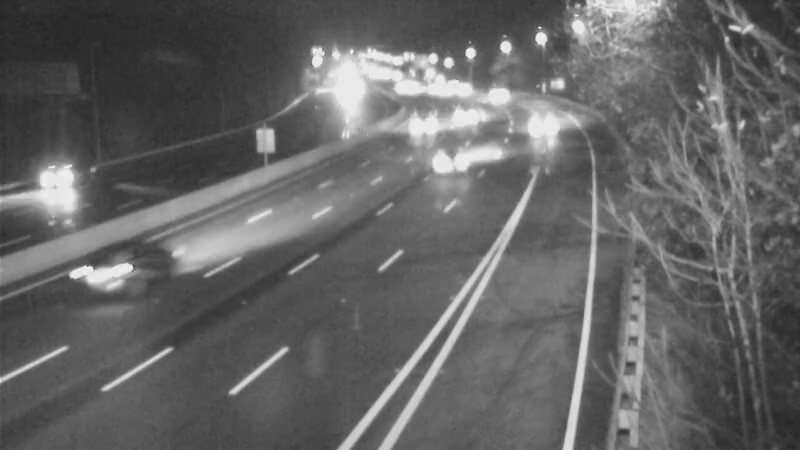vehicle: (410, 115, 490, 195), (63, 234, 143, 314), (14, 143, 94, 223), (426, 63, 476, 113), (377, 63, 427, 113), (441, 65, 491, 115), (441, 88, 491, 138), (526, 99, 576, 149), (396, 96, 446, 146)
